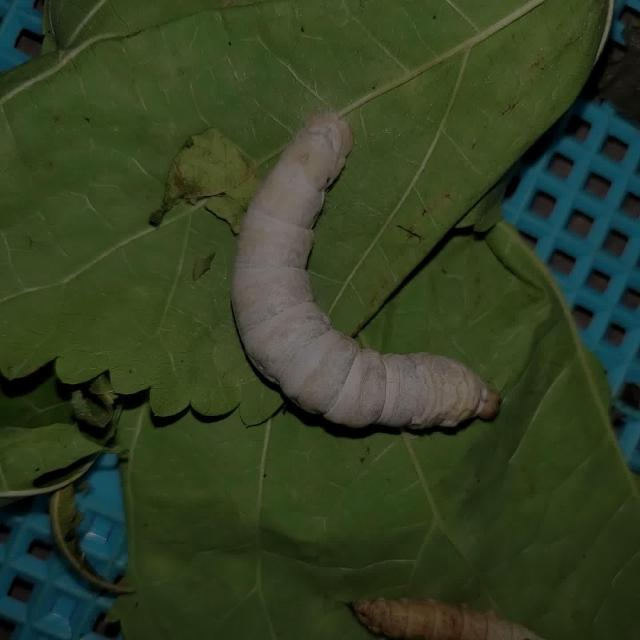Grasserie: (221, 91, 521, 456)
